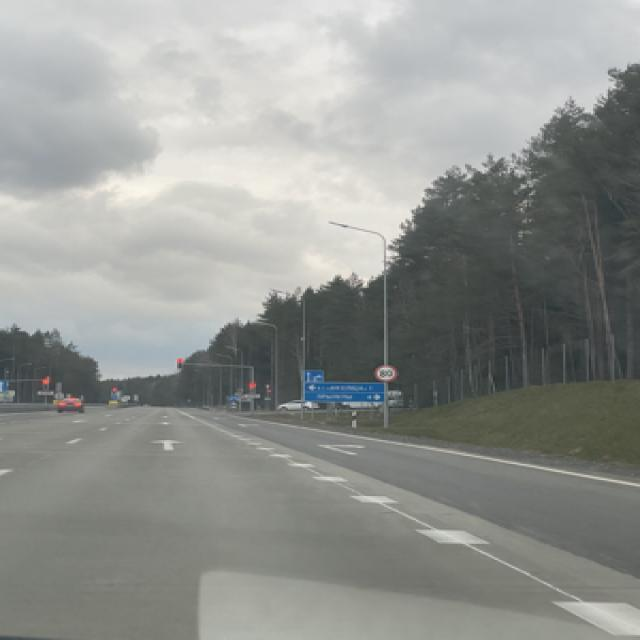speedlimit: (373, 365, 392, 379)
